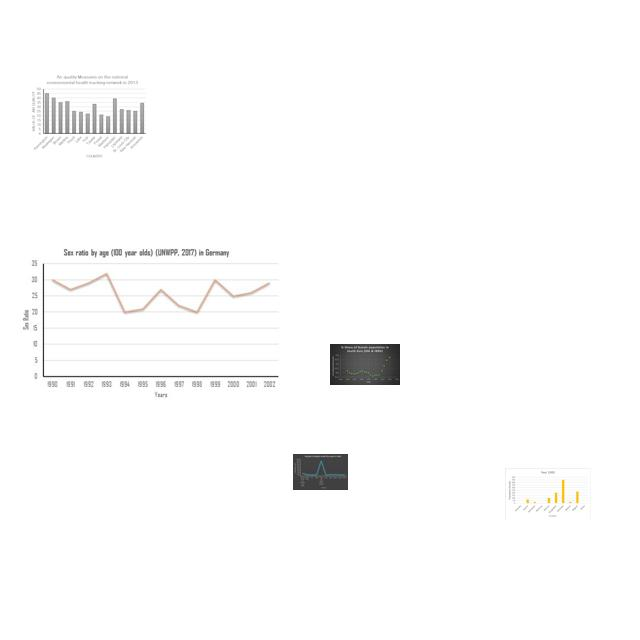Graph: (19, 244, 282, 403), (29, 73, 148, 160), (505, 468, 591, 520), (330, 344, 400, 385), (293, 454, 348, 490)
